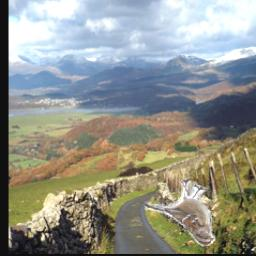Sparrow: (145, 176, 216, 248)
